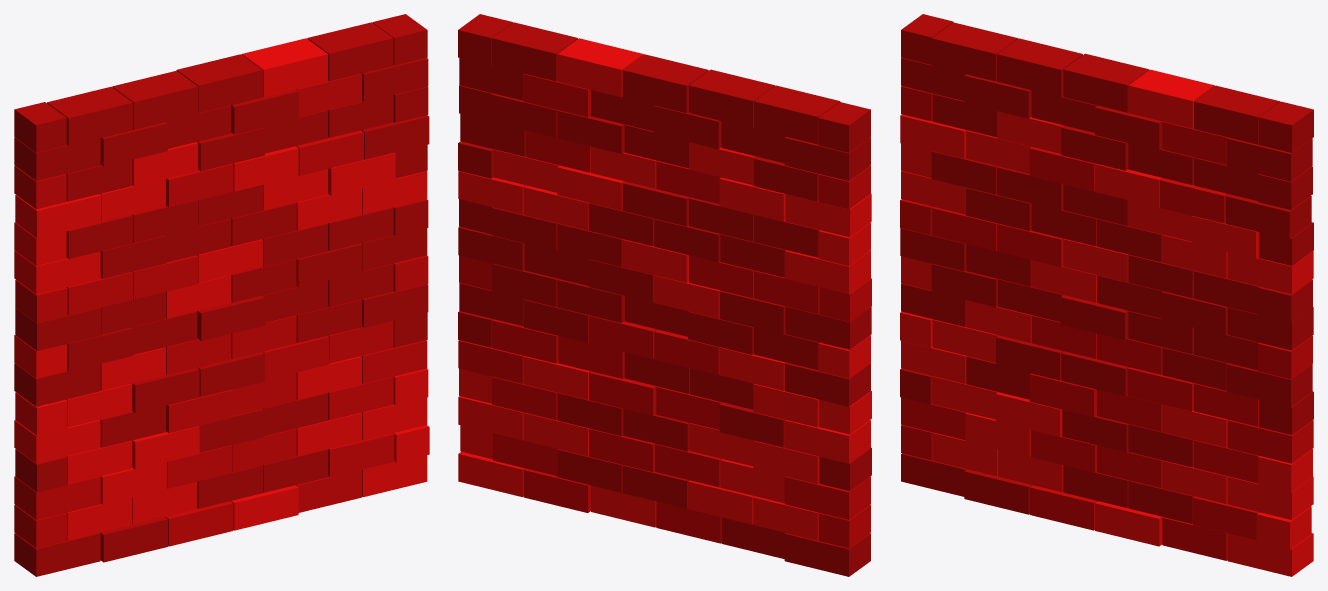
File: brick_wall_animation.fbx
3 renders of one model, left to right at view 1: azimuth 30°, elevation 25°; view 2: azimuth 150°, elevation 25°; view 3: azimuth 330°, elevation 25°, orthographic.
Parts seen in each view (by area): view 1: brick_wall; view 2: brick_wall; view 3: brick_wall.
Part boxes in pixels (left/top/right/bottom): brick_wall: left=14, top=14, right=429, bottom=576; brick_wall: left=458, top=14, right=871, bottom=576; brick_wall: left=900, top=14, right=1313, bottom=576.
Bounding box in the file's own units: 119 × 132 × 12.92.
